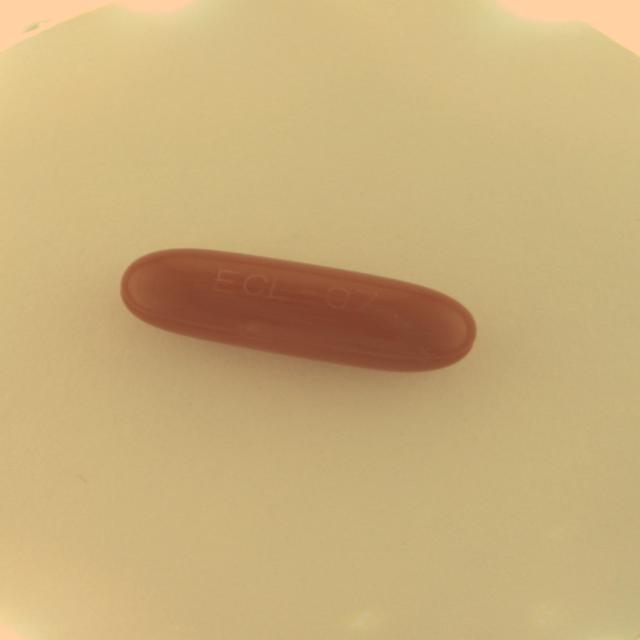Oval: (118, 247, 479, 375)
